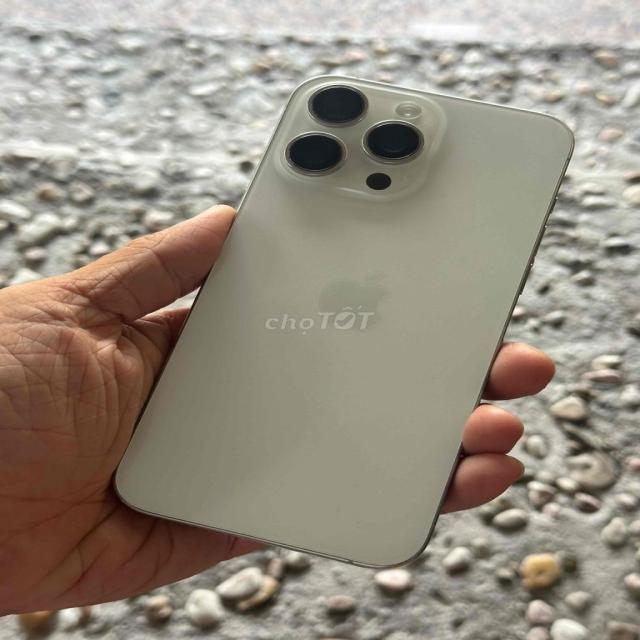gen_15: (105, 63, 573, 585)
